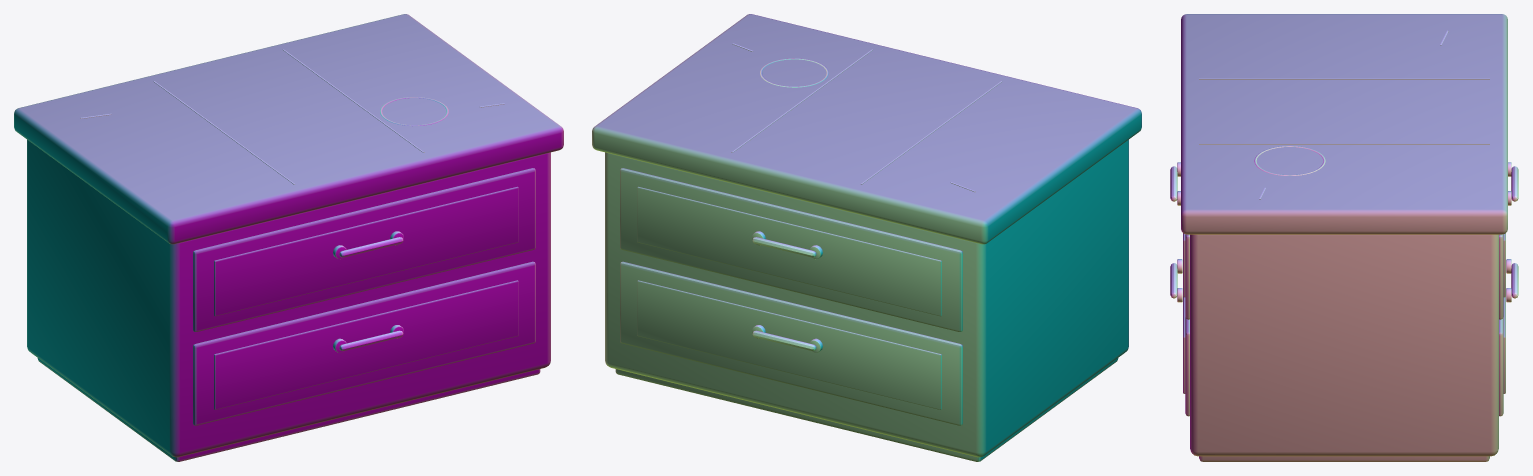
File: env_counter.glb
3 renders of one model, left to right at view 1: azimuth 30°, elevation 25°; view 2: azimuth 150°, elevation 25°; view 3: azimuth 270°, elevation 25°, orthographic. The views are drawn at different scales.
Visible parts, largest first — view 1: env_counter_mesh; view 2: env_counter_mesh; view 3: env_counter_mesh.
Part boxes in pixels (x1,y1,x2,y2): env_counter_mesh: (14, 14, 563, 461); env_counter_mesh: (592, 14, 1141, 461); env_counter_mesh: (1170, 14, 1518, 461).
Size of the model in its own units: 1.04 by 0.6328 by 0.766.
